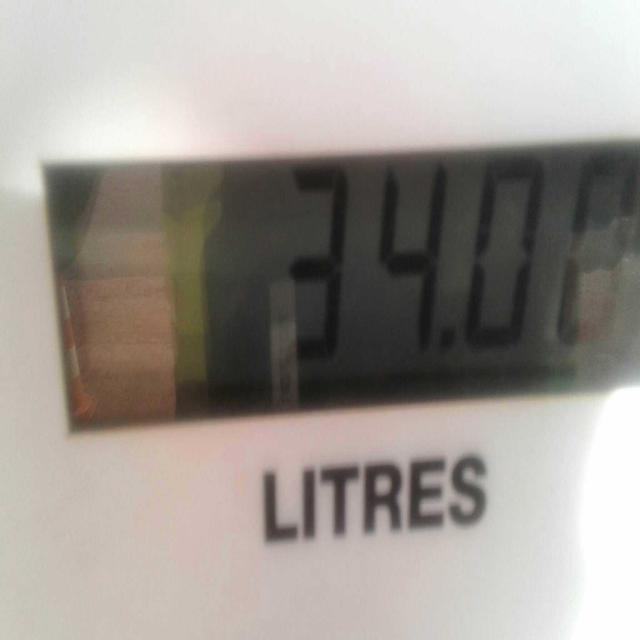.: (439, 313, 453, 344)
0: (558, 160, 628, 353), (472, 156, 536, 350)
3: (288, 158, 352, 356)
4: (380, 170, 438, 352)
